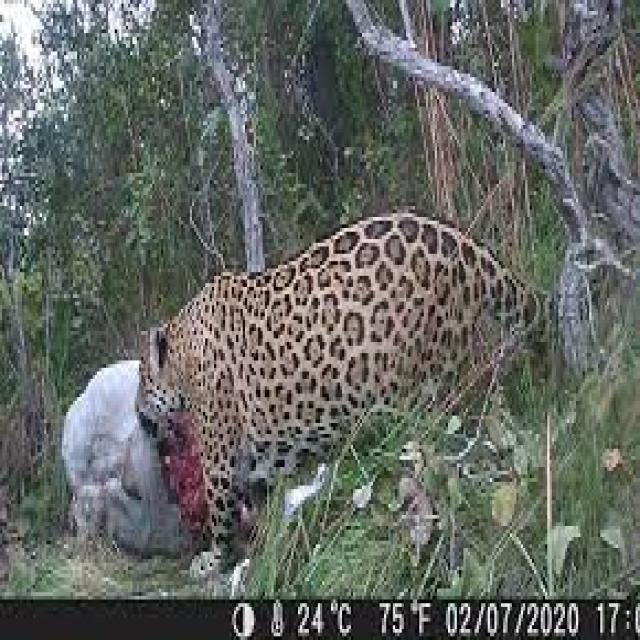Jaguar: (139, 224, 516, 541)
